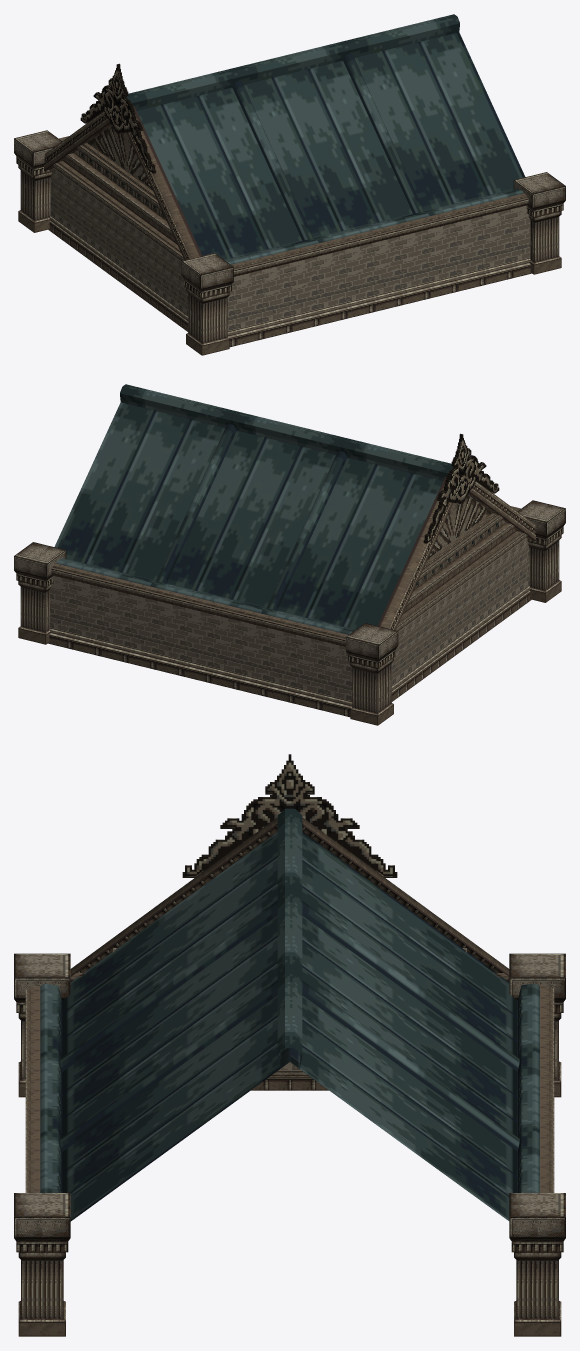
The model's file is EnvBdgMD_Theater_A_Outdoor_Top_A.FBX.
3 views of the same model, one above another, from view 1: azimuth 30°, elevation 25°; view 2: azimuth 150°, elevation 25°; view 3: azimuth 270°, elevation 25° (orthographic). The views are drawn at different scales.
Visible parts, largest first — view 1: EnvBdgMD_Theater_A_Outdoor_Top_A; view 2: EnvBdgMD_Theater_A_Outdoor_Top_A; view 3: EnvBdgMD_Theater_A_Outdoor_Top_A.
Boxes of the visible parts, bbox=[...] form: EnvBdgMD_Theater_A_Outdoor_Top_A: bbox=[14, 14, 565, 355]; EnvBdgMD_Theater_A_Outdoor_Top_A: bbox=[14, 384, 565, 725]; EnvBdgMD_Theater_A_Outdoor_Top_A: bbox=[14, 754, 565, 1336].
Size of the model in its own units: 2640 by 1545 by 2340.
1 material, 1 textured.
